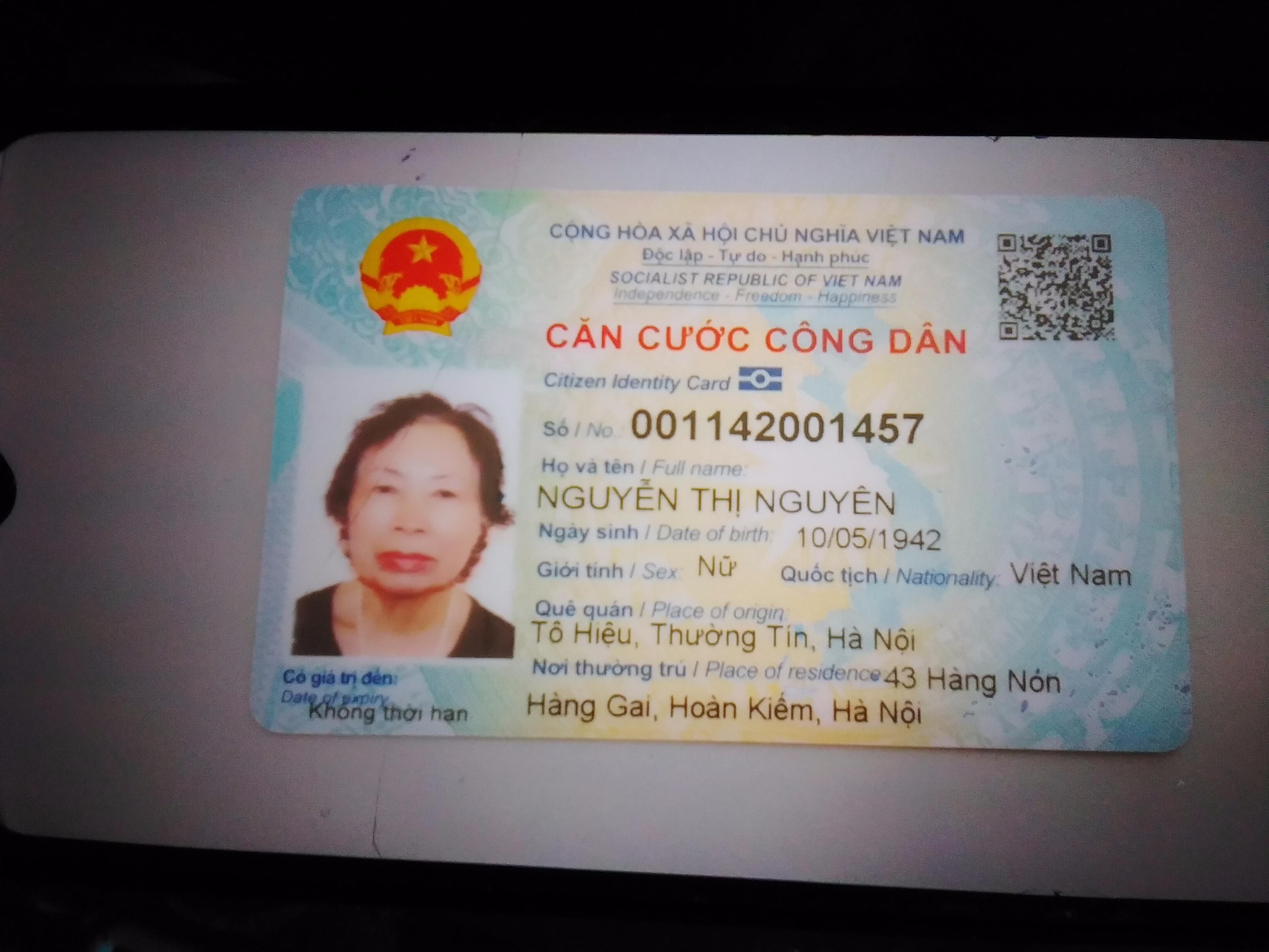ID: (625, 398, 930, 456)
birth: (787, 517, 953, 559)
name: (526, 478, 909, 523)
place: (521, 617, 927, 662)
residence: (515, 686, 933, 738), (883, 658, 1064, 699)
